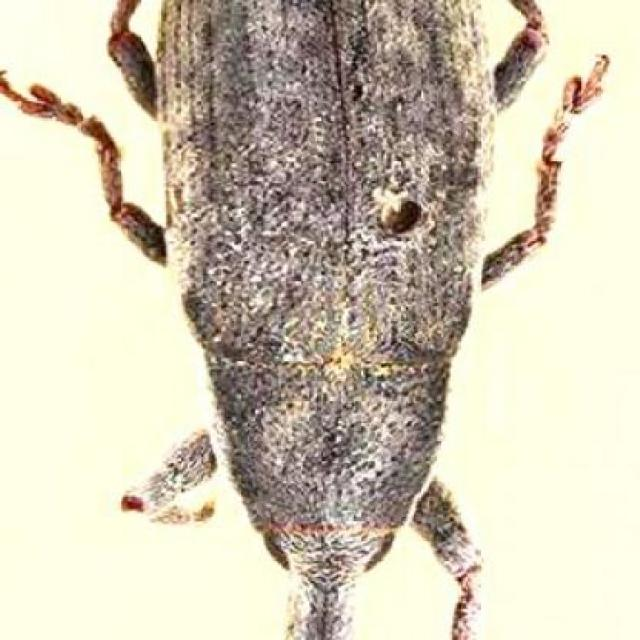rice-bug: (94, 0, 577, 640)
